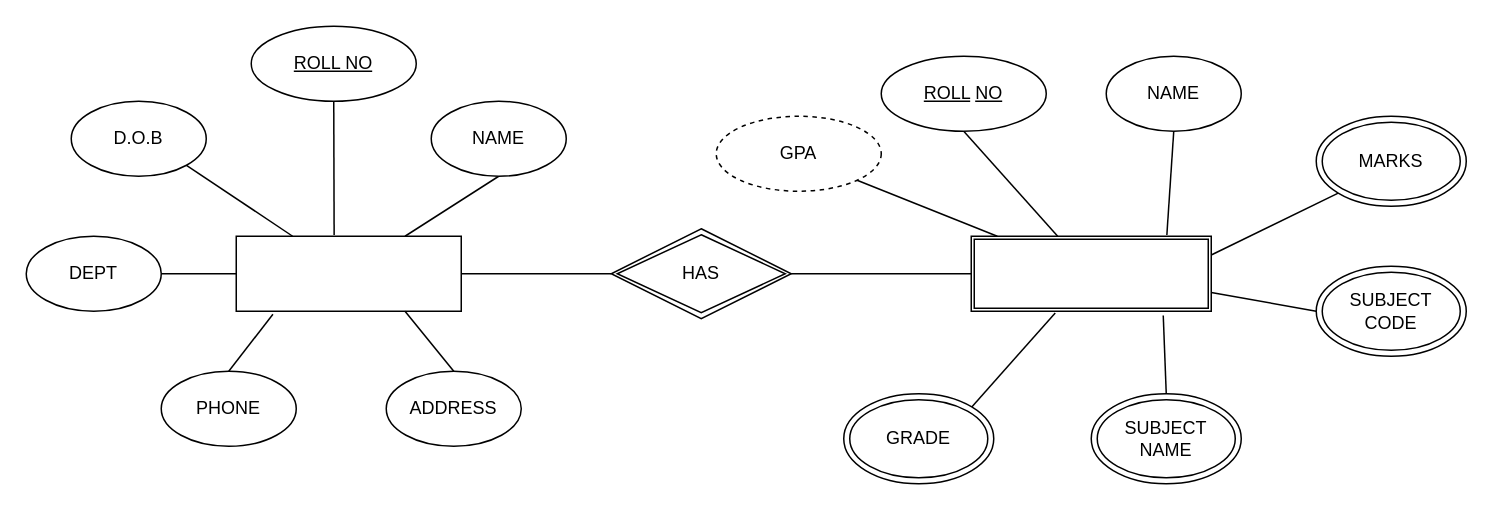
The diagram is 1493 pixels wide and 510 high, and some of its shapes have lost their labels. The shapes that lost their labels are listed below. From the top down, each one's box as (x1, y1, x2, y2) in pixels, then its label:
(235, 235, 461, 311): STUDENT
(970, 235, 1211, 311): MARKSHEET
